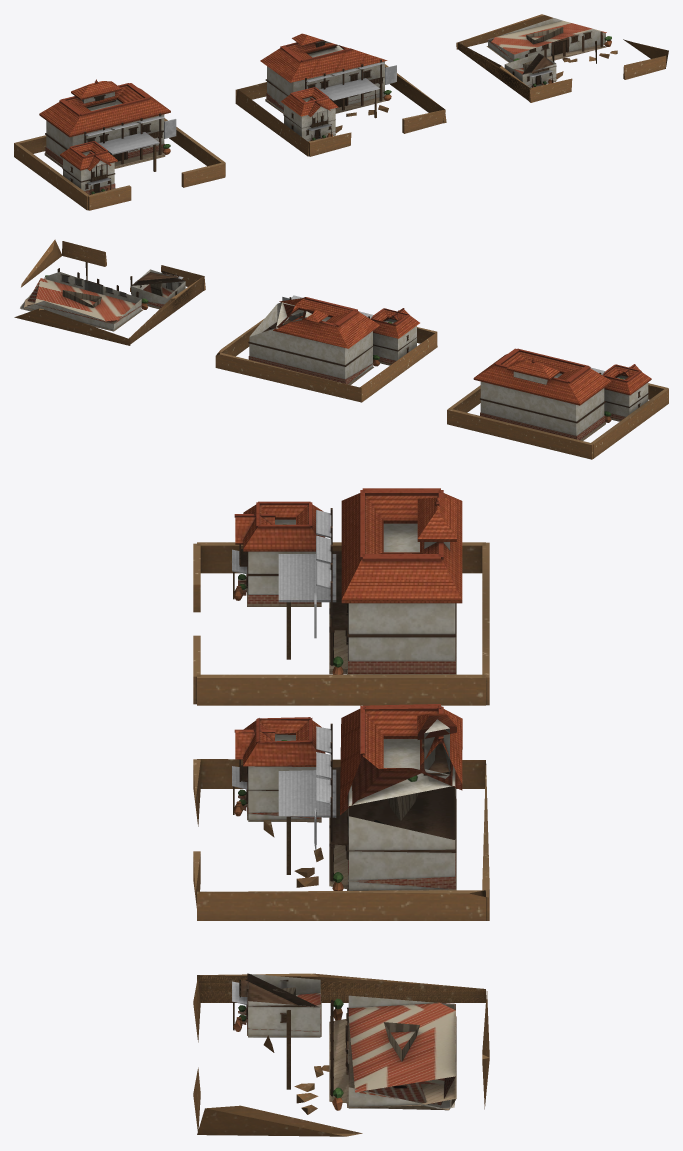
File: civic-classical-indic.glb
3 views of the same model, one above another, from view 1: azimuth 30°, elevation 25°; view 2: azimuth 150°, elevation 25°; view 3: azimuth 270°, elevation 25° (orthographic). The views are drawn at different scales.
Parts seen in each view (by area): view 1: LOD0, LOD0.001, LOD0.002; view 2: LOD0, LOD0.001, LOD0.002; view 3: LOD0, LOD0.001, LOD0.002.
Part boxes in pixels (<box>): LOD0: <box>14,79,225,210</box>; LOD0.001: <box>235,33,446,156</box>; LOD0.002: <box>456,14,668,102</box>; LOD0: <box>447,348,668,459</box>; LOD0.001: <box>215,295,437,402</box>; LOD0.002: <box>14,239,205,345</box>; LOD0: <box>193,488,489,705</box>; LOD0.001: <box>193,704,489,920</box>; LOD0.002: <box>193,973,489,1136</box>.
Size of what is drawn, in the model's own units: 7.93 by 0.92 by 1.75.
2 materials, 2 textured.
